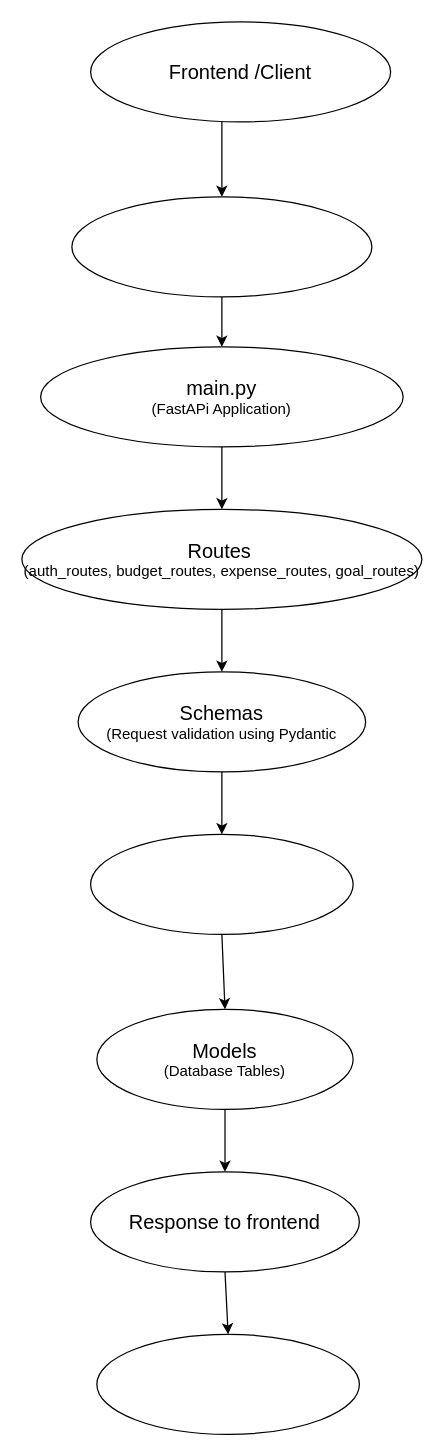
This 444x1456 diagram has some shape labels left out. Each missing label, with the centre of its shape:
"API Request" belongs at (x=221, y=246).
"Frontend" belongs at (x=227, y=1383).
"Services (Business Logic Layer)" belongs at (x=221, y=883).
